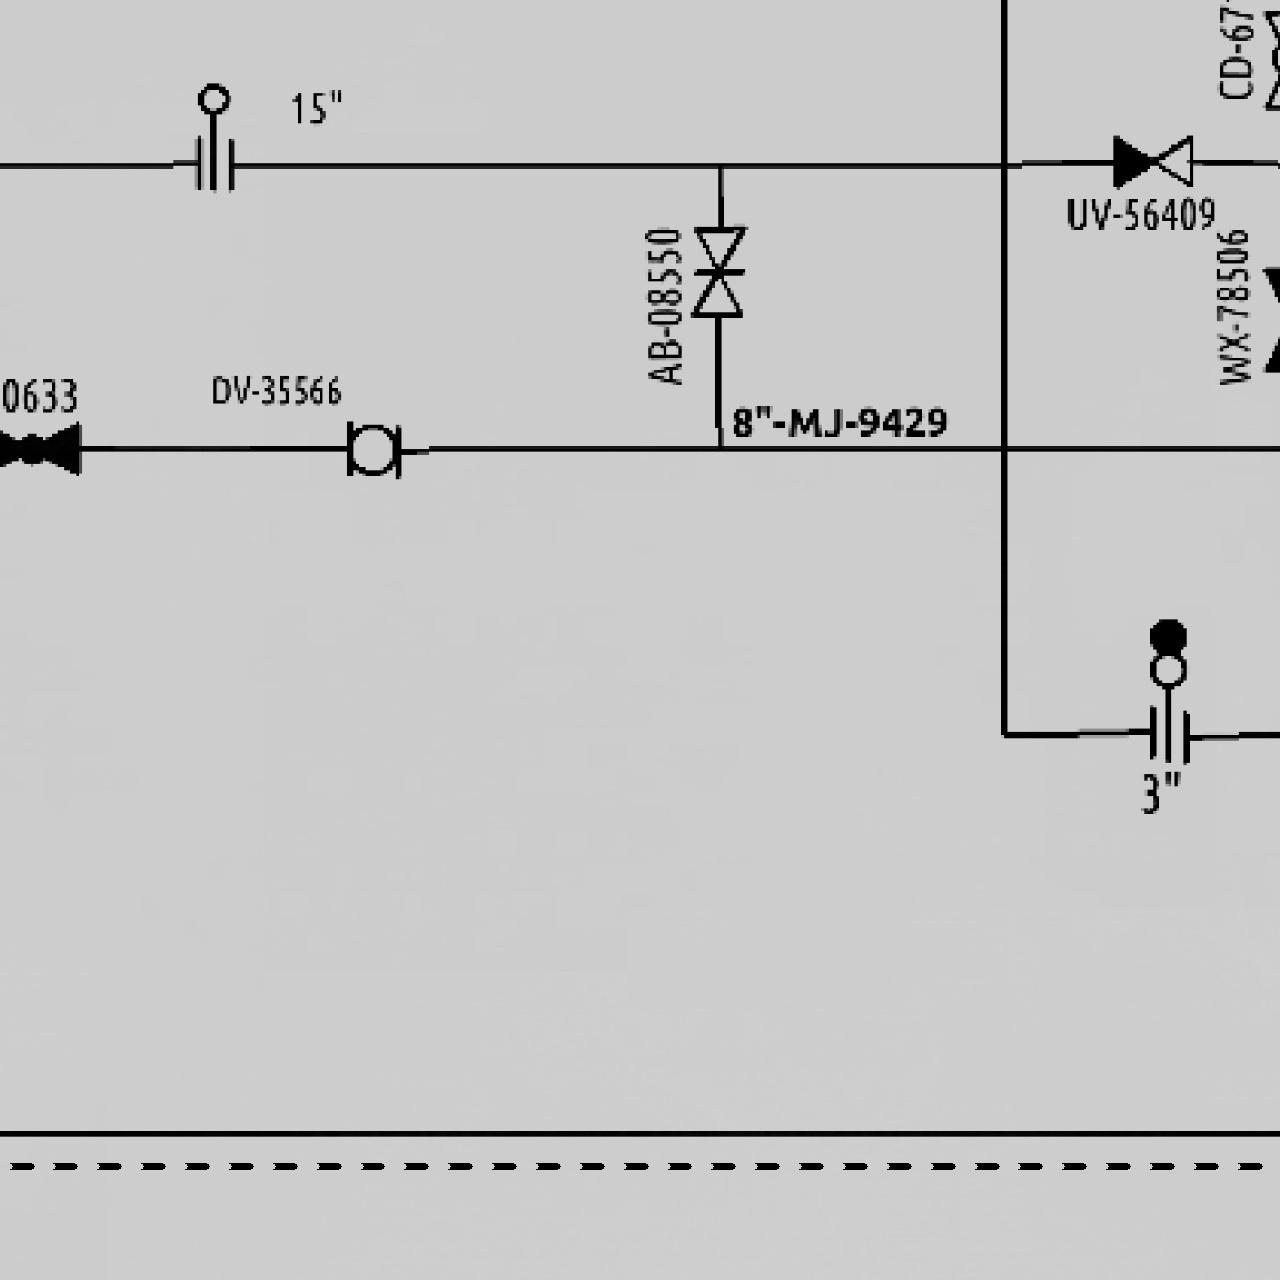Half closed valve: (1109, 130, 1196, 191)
